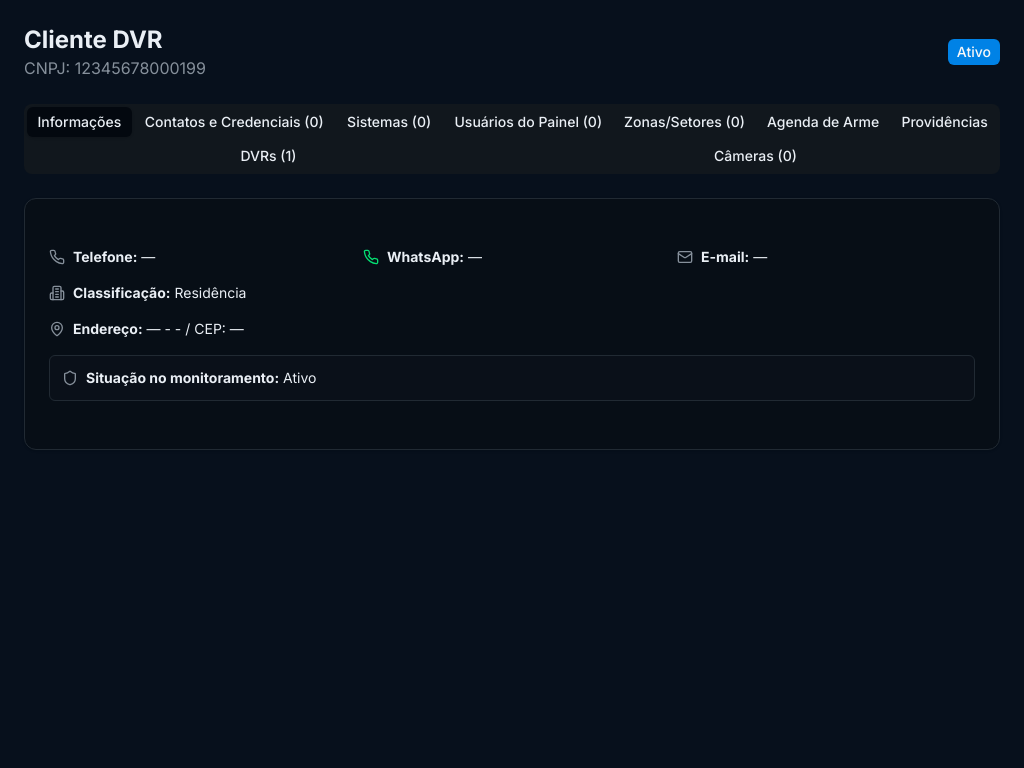
Test case: ClientDetail — cadastro informativo de DVRs › exibe dados e senha legível para admin
Click the tab "DVRs (1)". click: (268, 156)
box: 27,141 -> 510,171
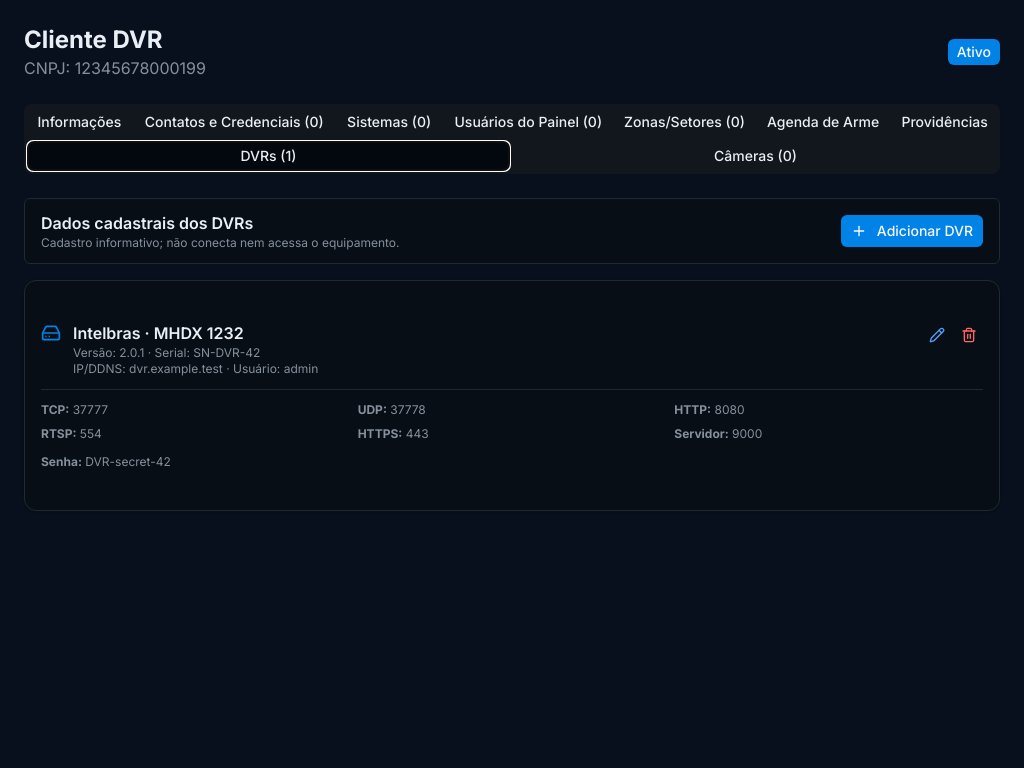
Expected: the text "Cadastro informativo; não conecta nem acessa o equipamento." is shown, 41,235 -> 400,251
Expected: the text "Intelbras · MHDX 1232" is shown, 73,323 -> 244,343
Expected: the text "Versão: 2.0.1 · Serial: SN-DVR-42" is shown, 73,345 -> 260,360
Click the button "Adicionar DVR". click: (912, 231)
box: 841,215 -> 983,247
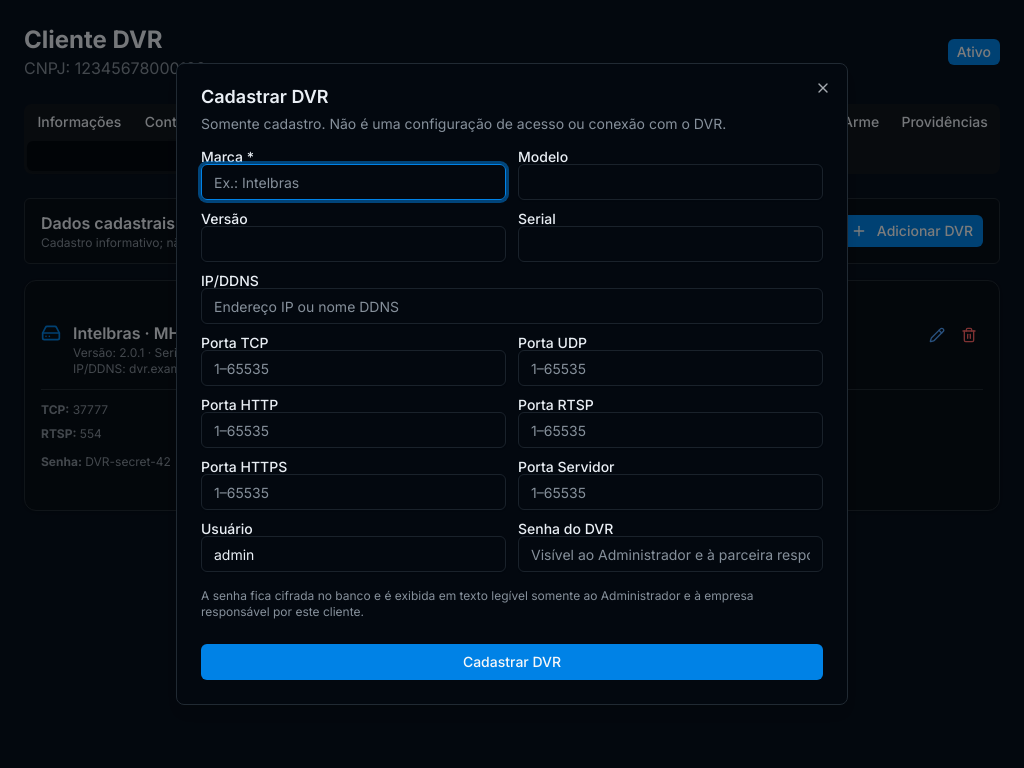
Expected: the text "Senha do DVR" is shown, 518,520 -> 613,537
Expected: the text "cifrada no banco" is shown, 201,588 -> 754,619
